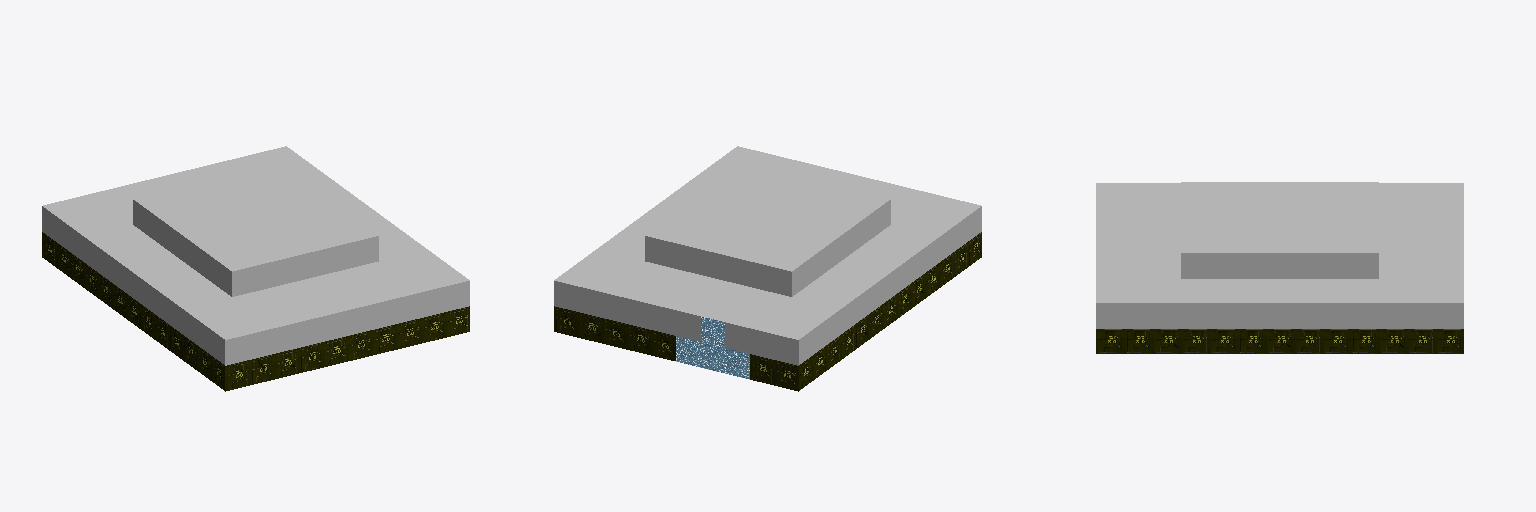
The picture shows the model from 3 angles: view 1: azimuth 30°, elevation 25°; view 2: azimuth 150°, elevation 25°; view 3: azimuth 270°, elevation 25°; orthographic projection.
Visible parts, largest first — view 1: building4, building4_wall; view 2: building4, building4_wall, building4_floor; view 3: building4, building4_wall.
Boxes of the visible parts, x1,y1,x2,y2 form: building4: [42, 146, 469, 365]; building4_wall: [42, 232, 469, 391]; building4: [554, 146, 981, 365]; building4_wall: [554, 232, 981, 391]; building4_floor: [676, 317, 749, 379]; building4: [1096, 182, 1463, 328]; building4_wall: [1096, 329, 1463, 353].
Size of the model in its own units: 200 by 60.08 by 260.
3 materials, 2 textured.